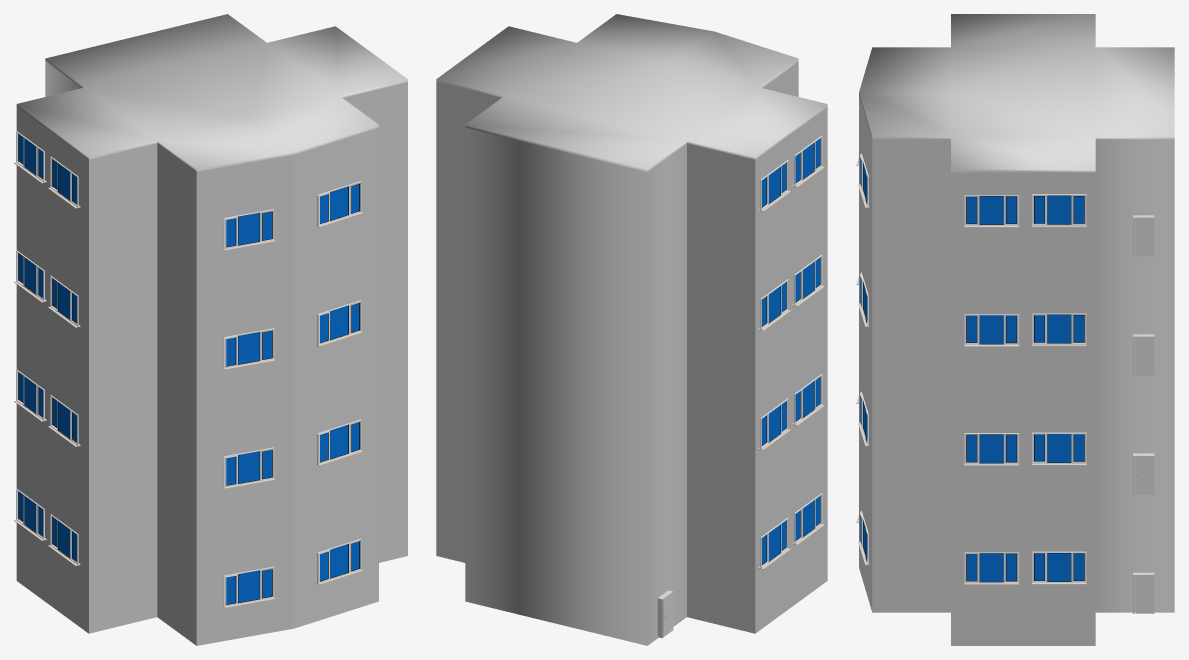
Rendered from building.fbx.
3 renders of one model, left to right at view 1: azimuth 30°, elevation 25°; view 2: azimuth 150°, elevation 25°; view 3: azimuth 270°, elevation 25°, orthographic.
Visible parts, largest first — view 1: Plane.001; view 2: Plane.001; view 3: Plane.001.
Boxes of the visible parts, x1,y1,x2,y2 form: Plane.001: (14,14,407,645); Plane.001: (436,14,827,645); Plane.001: (856,14,1174,645).
Bounding box in the file's own units: 1373 × 1907 × 1154.
